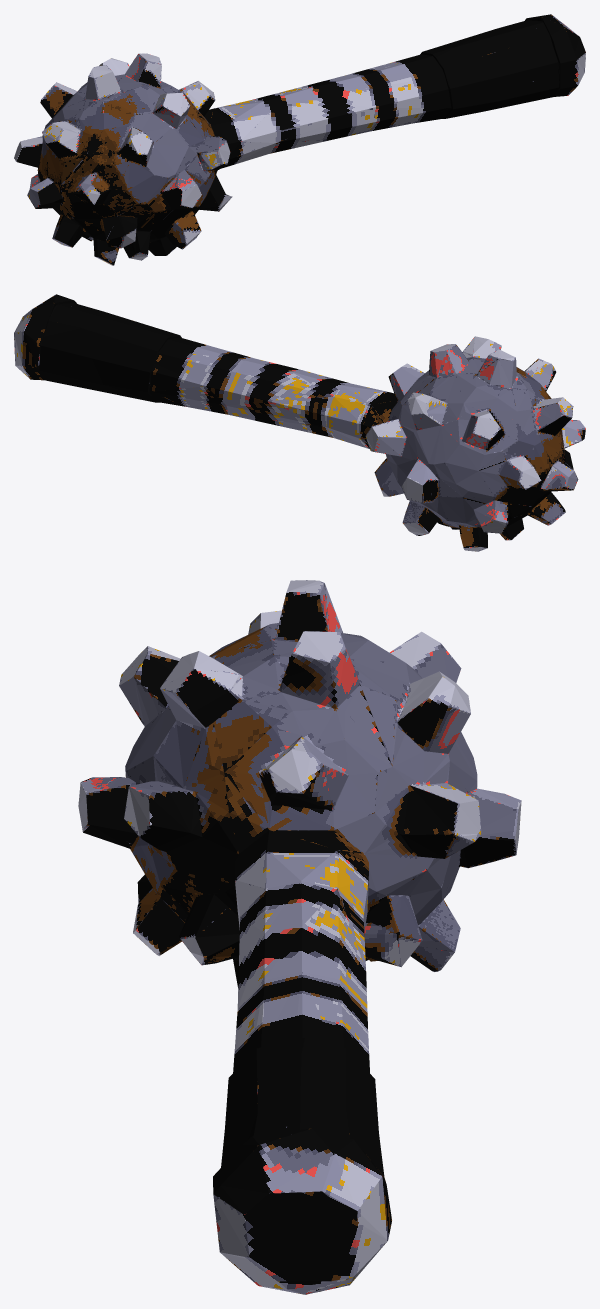
3 views of the same model, one above another, from view 1: azimuth 30°, elevation 25°; view 2: azimuth 150°, elevation 25°; view 3: azimuth 270°, elevation 25° (orthographic). The views are drawn at different scales.
Visible parts, largest first — view 1: OBJ00e; view 2: OBJ00e; view 3: OBJ00e.
Boxes of the visible parts, box(x1,y1,x2,y2) form: OBJ00e: box(14, 14, 585, 265); OBJ00e: box(14, 294, 585, 551); OBJ00e: box(78, 580, 521, 1294).
Bounding box in the file's own units: 0.3884 × 0.1315 × 0.1383.
1 material, 1 textured.
